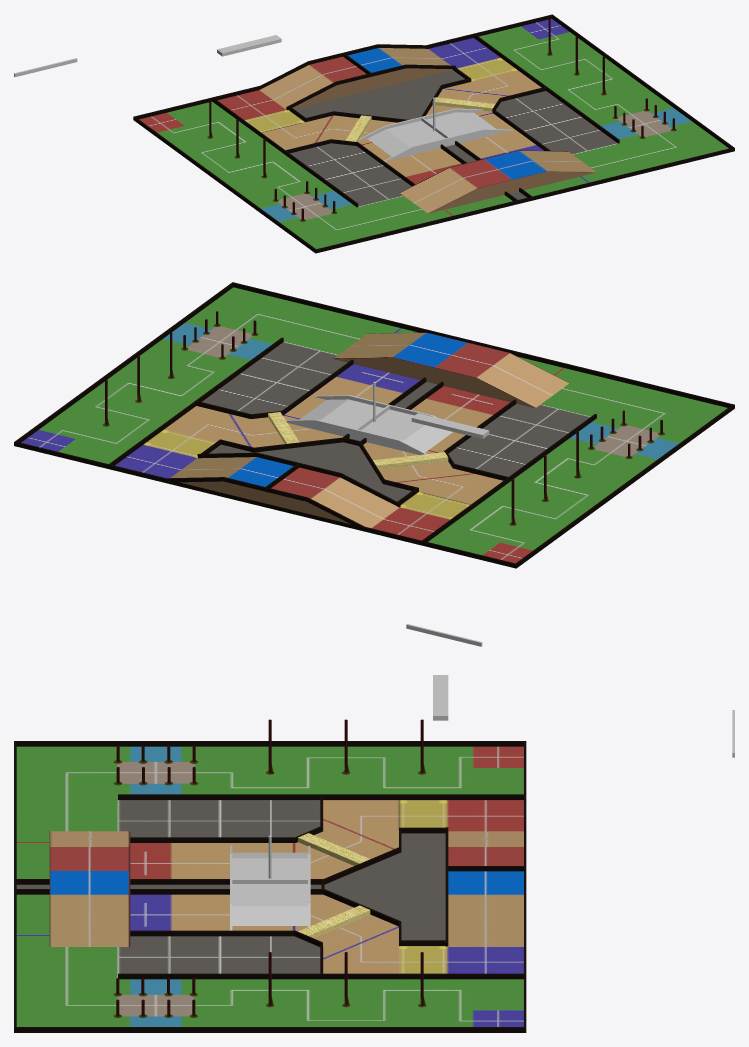
File: bridge.obj
3 renders of one model, top to bottom at view 1: azimuth 30°, elevation 25°; view 2: azimuth 150°, elevation 25°; view 3: azimuth 270°, elevation 25°, orthographic. The views are drawn at different scales.
Parts seen in each view (by area): view 1: FloorPlane_Plane, Fences_Cube.002, Bridge.001_Cube.001, Bridge_Cube.030, Cube.003_Cube.019, SandDune_Cube.032, ForestPole_Cube.044, BridgePole_Cylinder.054, Cube.002_Cube.031; view 2: FloorPlane_Plane, Fences_Cube.002, Bridge.001_Cube.001, Bridge_Cube.030, Cube.003_Cube.019, SandDune_Cube.032, ForestPole_Cube.044, Cube.002_Cube.031, BridgePole_Cylinder.054; view 3: FloorPlane_Plane, Fences_Cube.002, Bridge.001_Cube.001, Bridge_Cube.030, Cube.003_Cube.019, SandDune_Cube.032, ForestPole_Cube.044, BridgePole_Cylinder.054, Cube.002_Cube.031.
Part boxes in pixels (x1=…): FloorPlane_Plane: x1=139, y1=18, x2=728, y2=248; Fences_Cube.002: x1=133, y1=14, x2=734, y2=253; Bridge.001_Cube.001: x1=399, y1=150, x2=596, y2=213; Bridge_Cube.030: x1=259, y1=48, x2=452, y2=109; Cube.003_Cube.019: x1=358, y1=108, x2=512, y2=161; SandDune_Cube.032: x1=345, y1=97, x2=495, y2=141; ForestPole_Cube.044: x1=209, y1=16, x2=604, y2=177; BridgePole_Cylinder.054: x1=274, y1=98, x2=674, y2=220; Cube.002_Cube.031: x1=217, y1=35, x2=281, y2=56; FloorPlane_Plane: x1=21, y1=287, x2=727, y2=563; Fences_Cube.002: x1=14, y1=282, x2=734, y2=568; Bridge.001_Cube.001: x1=333, y1=332, x2=569, y2=408; Bridge_Cube.030: x1=170, y1=457, x2=399, y2=528; Cube.003_Cube.019: x1=286, y1=395, x2=452, y2=454; SandDune_Cube.032: x1=268, y1=412, x2=448, y2=469; ForestPole_Cube.044: x1=105, y1=332, x2=579, y2=524; Cube.002_Cube.031: x1=411, y1=413, x2=489, y2=438; BridgePole_Cylinder.054: x1=183, y1=311, x2=662, y2=457; FloorPlane_Plane: x1=16, y1=746, x2=523, y2=1026; Fences_Cube.002: x1=14, y1=741, x2=526, y2=1032; Bridge.001_Cube.001: x1=49, y1=831, x2=130, y2=946; Bridge_Cube.030: x1=445, y1=831, x2=523, y2=946; Cube.003_Cube.019: x1=230, y1=845, x2=310, y2=930; SandDune_Cube.032: x1=298, y1=833, x2=370, y2=938; ForestPole_Cube.044: x1=268, y1=719, x2=423, y2=1005; BridgePole_Cylinder.054: x1=116, y1=745, x2=195, y2=1016; Cube.002_Cube.031: x1=433, y1=675, x2=448, y2=720.
Size of the model in its own units: 14.84 by 2.61 by 14.21.
10 materials, 6 textured.
